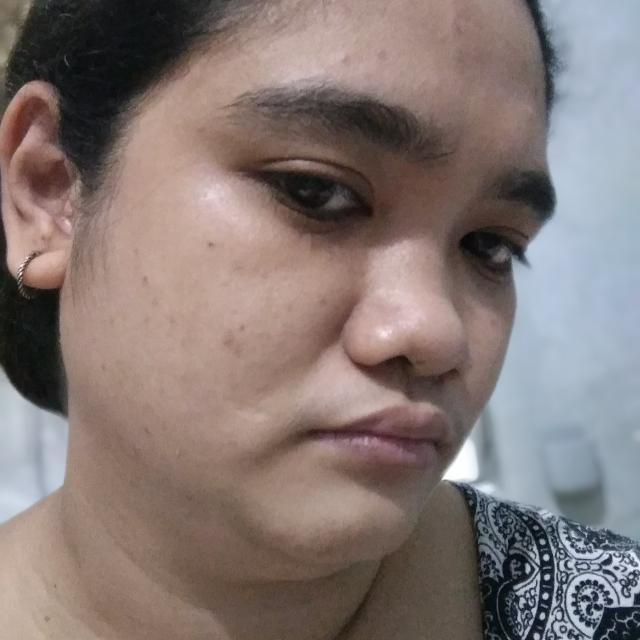acne: (218, 329, 250, 359), (163, 308, 183, 338), (456, 47, 476, 74), (450, 13, 468, 39), (136, 270, 159, 290), (368, 43, 389, 64), (316, 292, 334, 315), (144, 296, 167, 314), (336, 51, 358, 68), (126, 243, 142, 263), (168, 448, 188, 464), (278, 302, 296, 318), (530, 80, 544, 100), (137, 426, 156, 438), (206, 239, 219, 251)
dark circle: (252, 220, 376, 248), (462, 278, 506, 298)
wrinkle: (302, 338, 338, 379)
